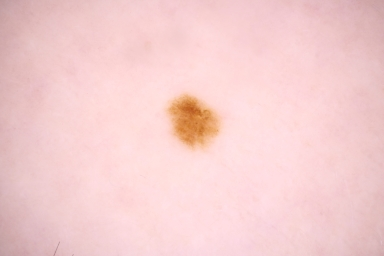melanoma: (168, 94, 219, 147)
